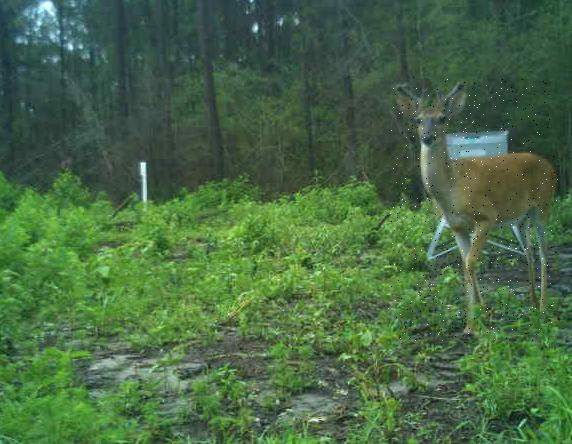Deer: (387, 77, 557, 341)
